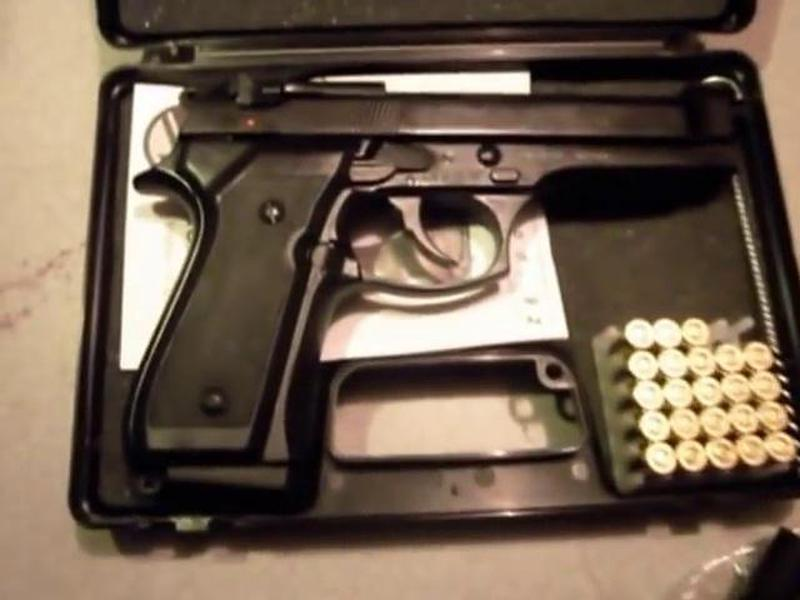Pistola: (126, 59, 710, 498)
